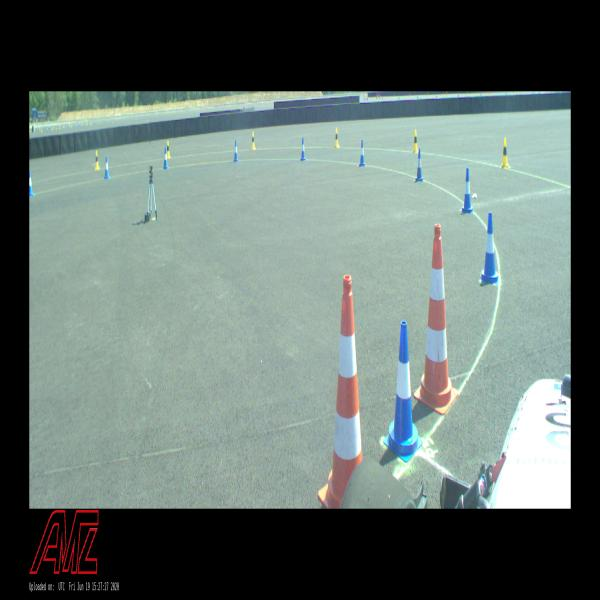blue_cone: (384, 320, 422, 461), (481, 211, 498, 283), (461, 168, 474, 215), (416, 148, 424, 182), (359, 140, 366, 166), (104, 156, 110, 179), (163, 147, 169, 169), (300, 138, 306, 160), (233, 140, 239, 162), (29, 170, 34, 196)
large_orange_cone: (318, 274, 362, 508), (414, 223, 458, 416)
yellow_cone: (501, 138, 510, 168), (413, 129, 418, 153), (334, 128, 340, 147), (94, 150, 100, 169), (251, 131, 256, 149), (167, 140, 171, 158)
